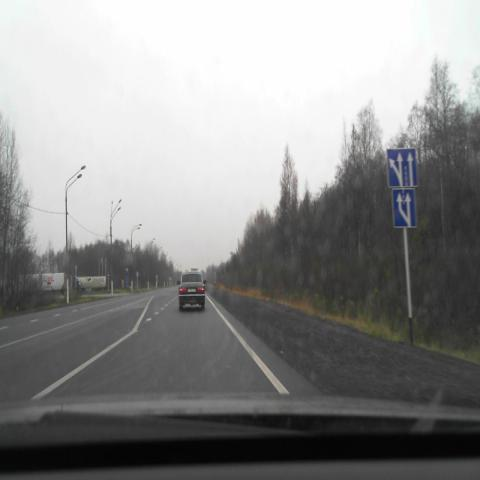5_15_3: (392, 189, 416, 228)
